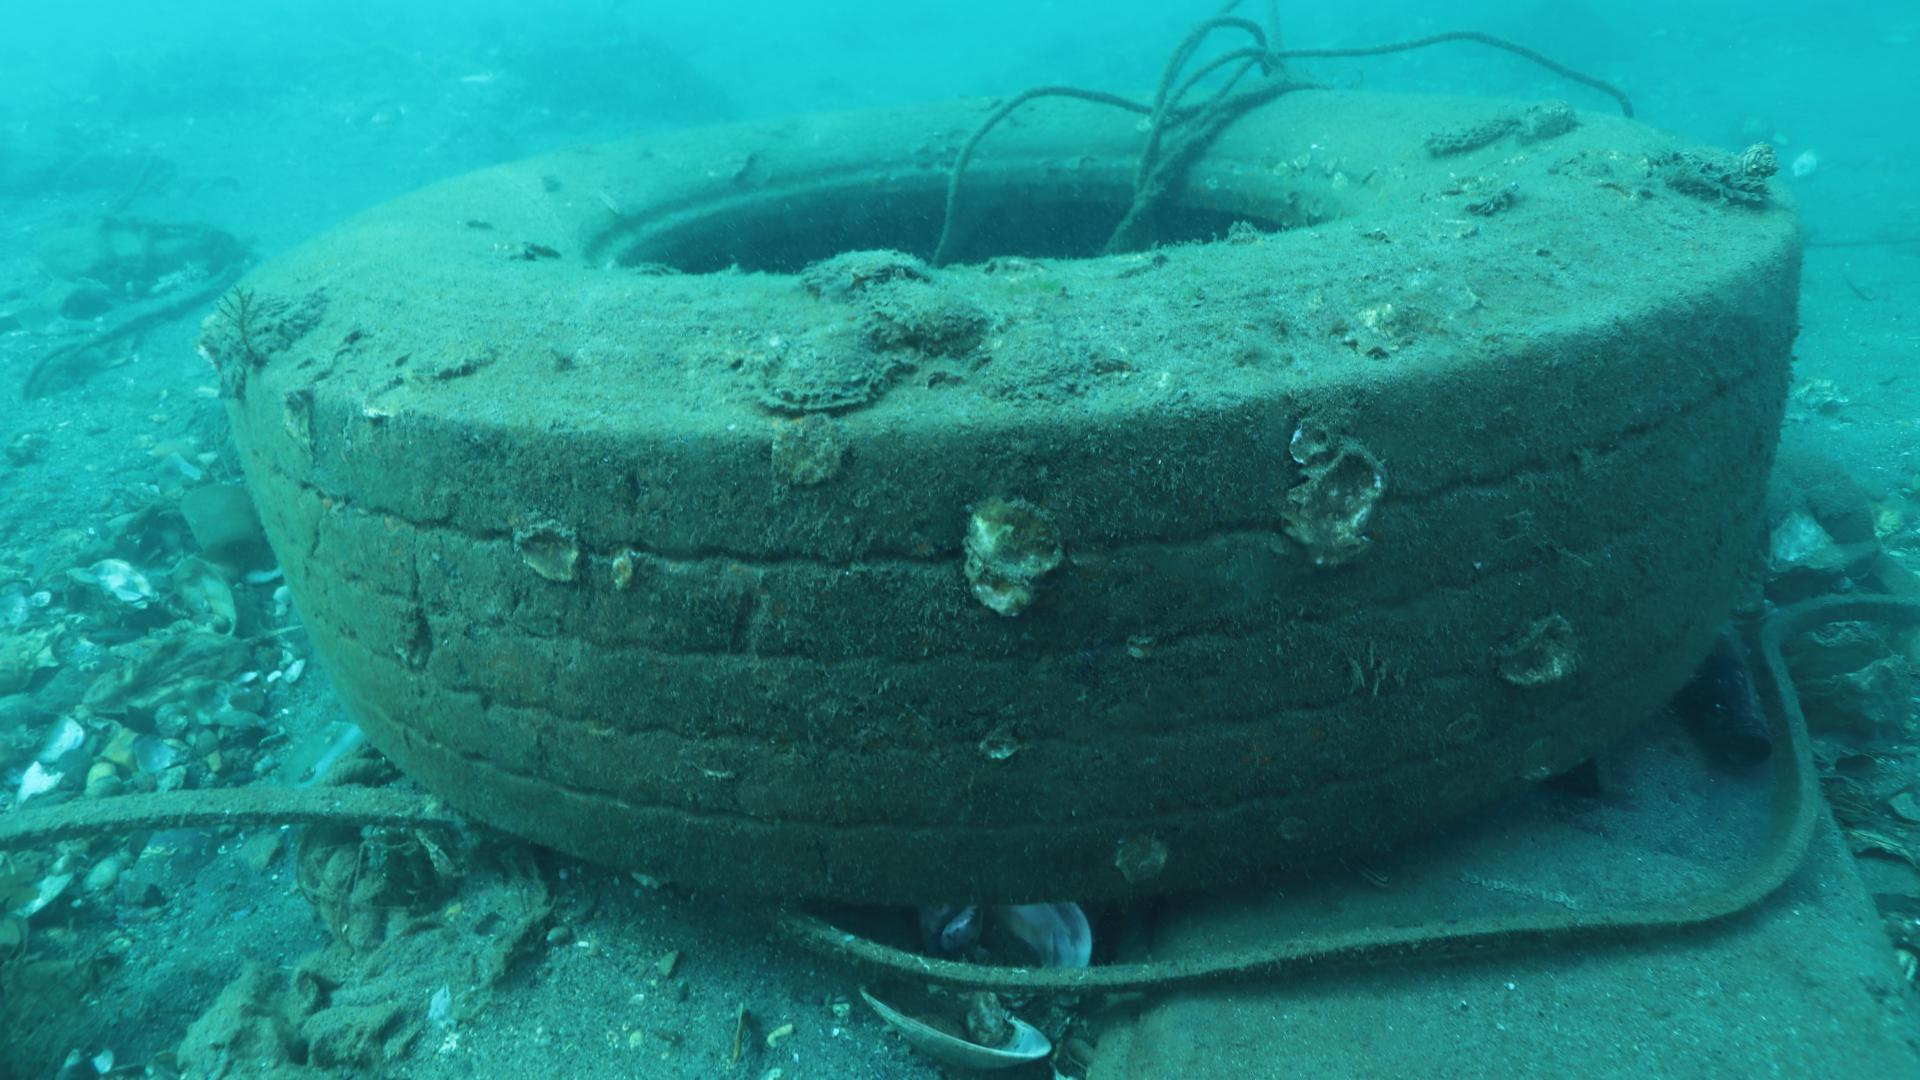bundle of ropes: (930, 0, 1633, 262)
tire: (212, 83, 1815, 910)
